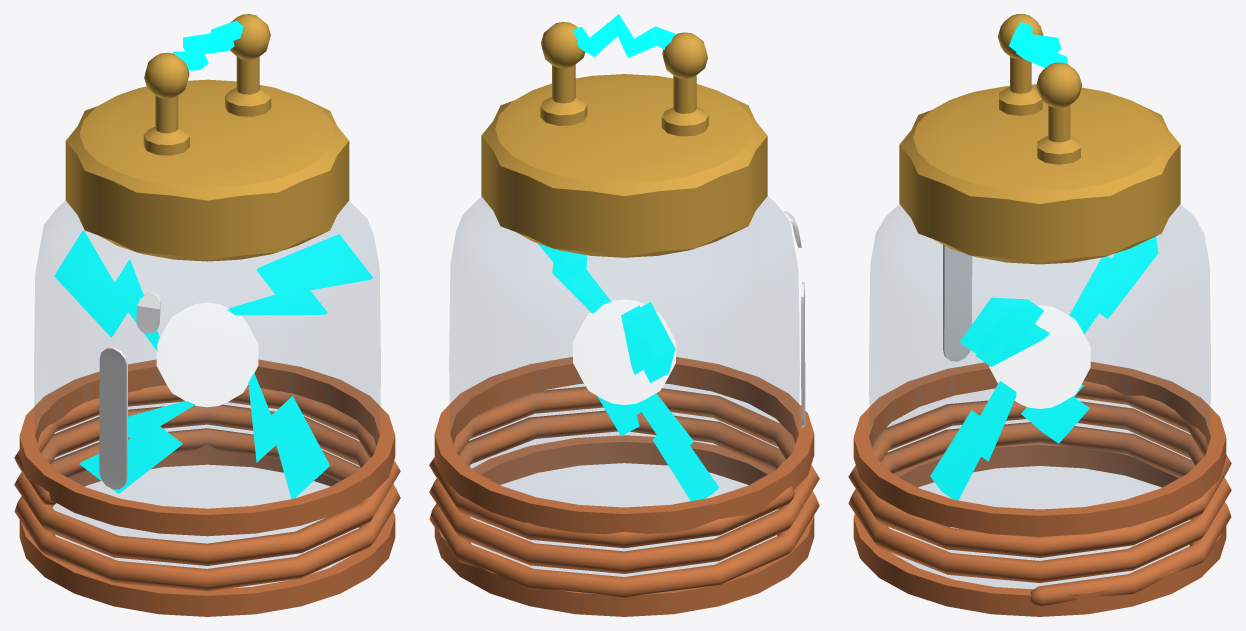
The model's file is item_shock_jar.glb.
3 views of the same model, side by side, from view 1: azimuth 30°, elevation 25°; view 2: azimuth 150°, elevation 25°; view 3: azimuth 270°, elevation 25° (orthographic).
Visible parts, largest first — view 1: ShockJar; view 2: ShockJar; view 3: ShockJar.
Boxes of the visible parts, bbox=[...] form: ShockJar: bbox=[14, 14, 400, 616]; ShockJar: bbox=[429, 14, 819, 616]; ShockJar: bbox=[848, 14, 1231, 616].
Bounding box in the file's own units: 0.1892 × 0.28 × 0.1892.
